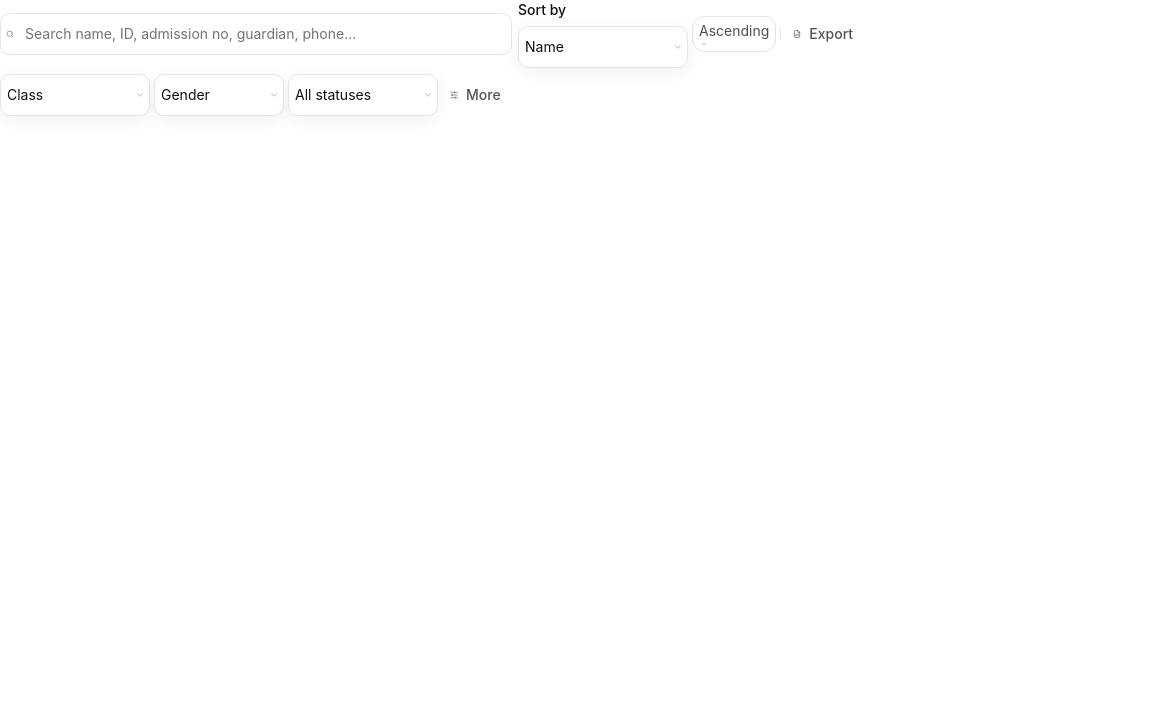
Test: StudentToolbar › opens the More Filters drawer and exposes secondary filters
Click the button with test id "more-filters-toggle" at (475, 95), box 442,83 -> 509,107
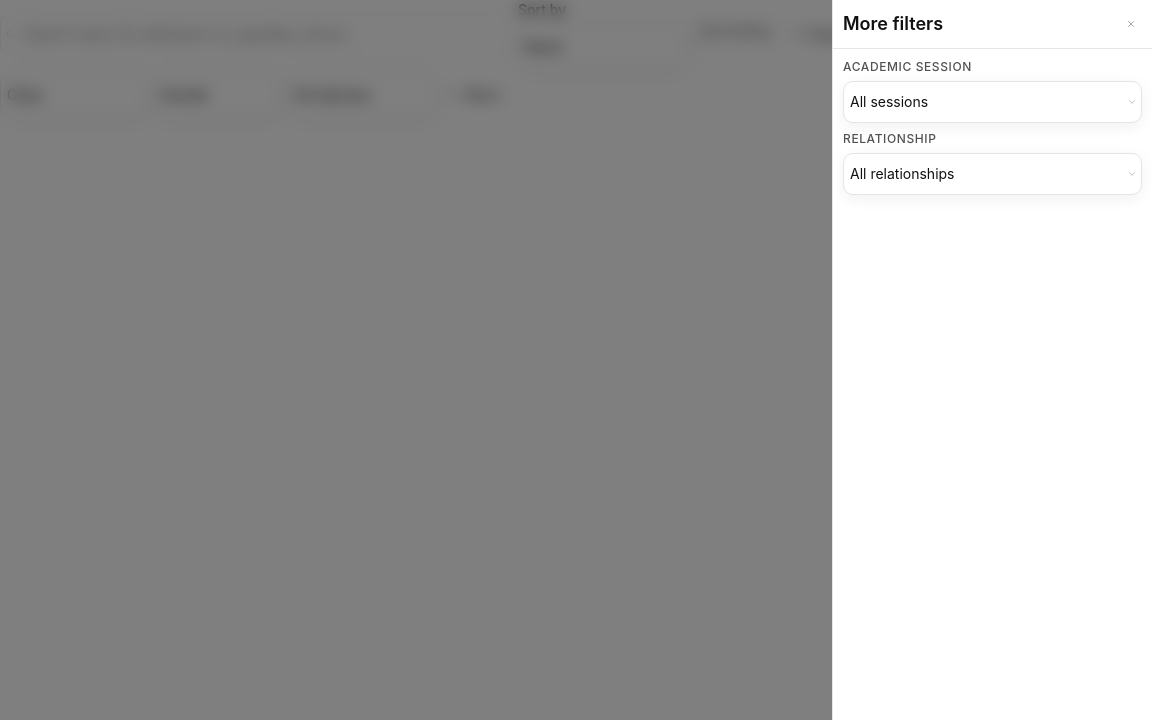
Expected: the element with test id "filter-session" is shown, 843,81 -> 1142,123
Expected: the element with test id "filter-relationship" is shown, 843,153 -> 1142,195
